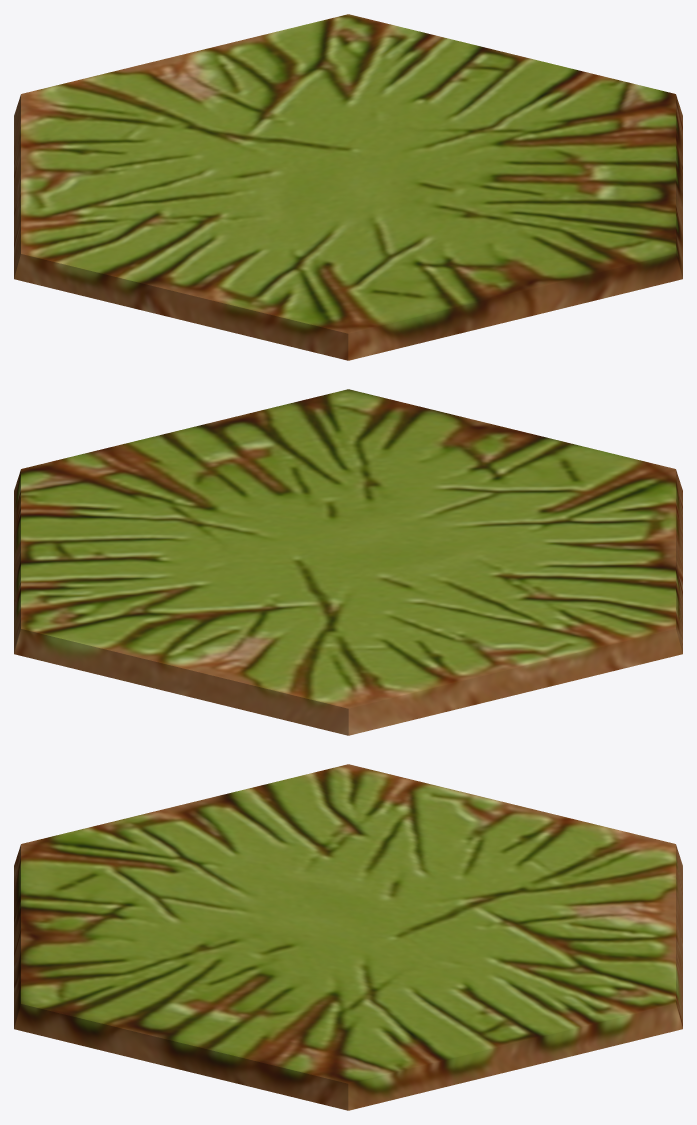
The model's file is classic1-cap-leafit.glb.
The picture shows the model from 3 angles, top to bottom: view 1: azimuth 30°, elevation 25°; view 2: azimuth 150°, elevation 25°; view 3: azimuth 270°, elevation 25°; orthographic projection.
Visible parts, largest first — view 1: Single_Tile.001; view 2: Single_Tile.001; view 3: Single_Tile.001.
Boxes of the visible parts, x1,y1,x2,y2 form: Single_Tile.001: (14,14,682,360); Single_Tile.001: (14,389,682,735); Single_Tile.001: (14,764,682,1110).
Bounding box in the file's own units: 1.75 × 0.0591 × 1.52.
Materials: 1 (1 with a texture image).
